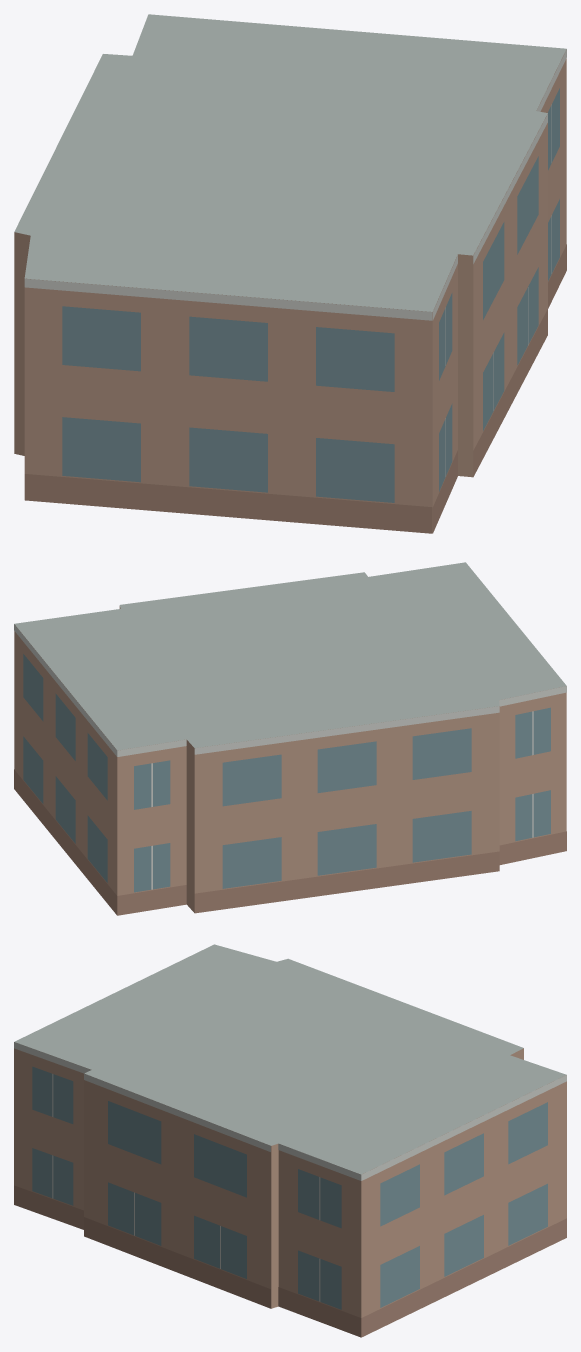
File: survey-upis-32619255.glb
The picture shows the model from 3 angles, top to bottom: view 1: azimuth 30°, elevation 25°; view 2: azimuth 150°, elevation 25°; view 3: azimuth 270°, elevation 25°; orthographic projection. The views are drawn at different scales.
Visible parts, largest first — view 1: survey-upis-32619255.tmp; view 2: survey-upis-32619255.tmp; view 3: survey-upis-32619255.tmp.
Boxes of the visible parts, box(x1,y1,x2,y2) form: survey-upis-32619255.tmp: box(14, 14, 566, 533); survey-upis-32619255.tmp: box(14, 562, 566, 915); survey-upis-32619255.tmp: box(14, 944, 566, 1337).
Size of the model in its own units: 18.5 by 6.1 by 18.76.
